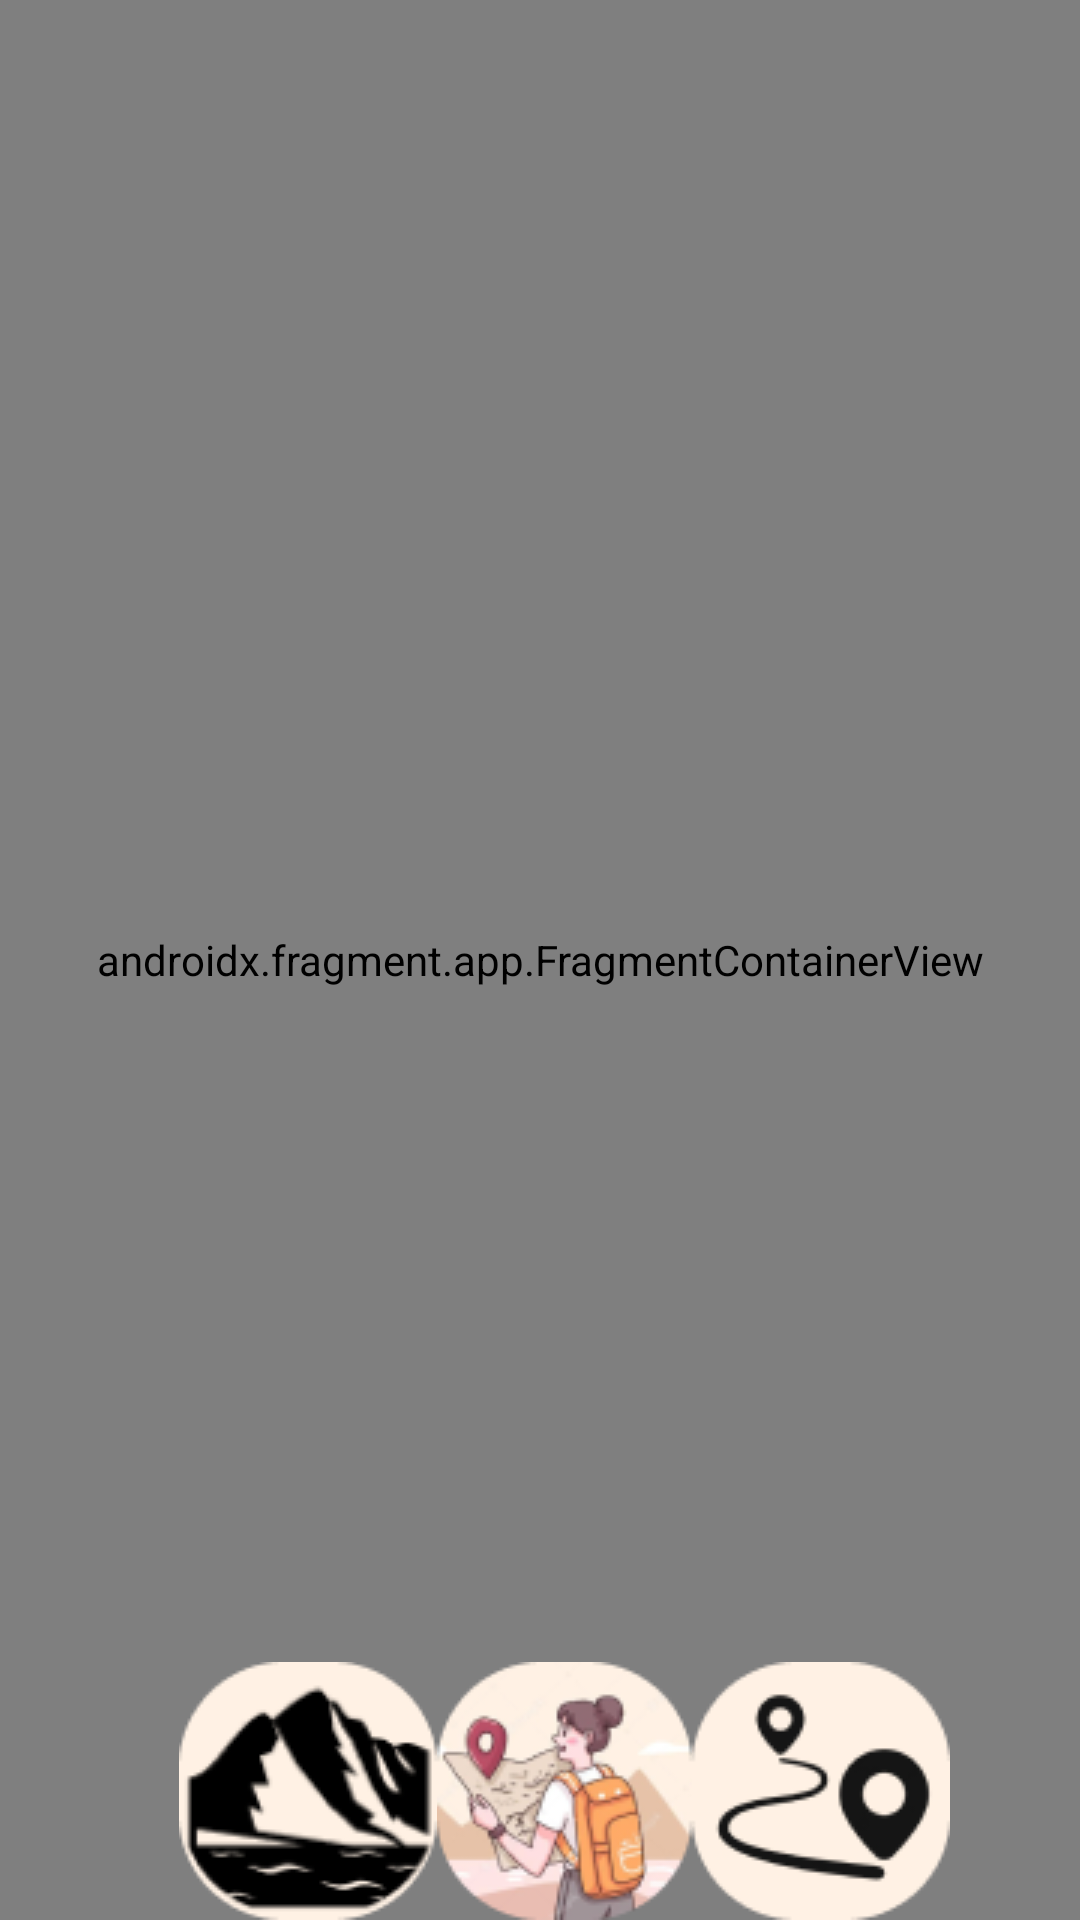

Named icons in this screenshot (1080×1920) and their centers, [x,y]:
pathtrack: [821,1791]
